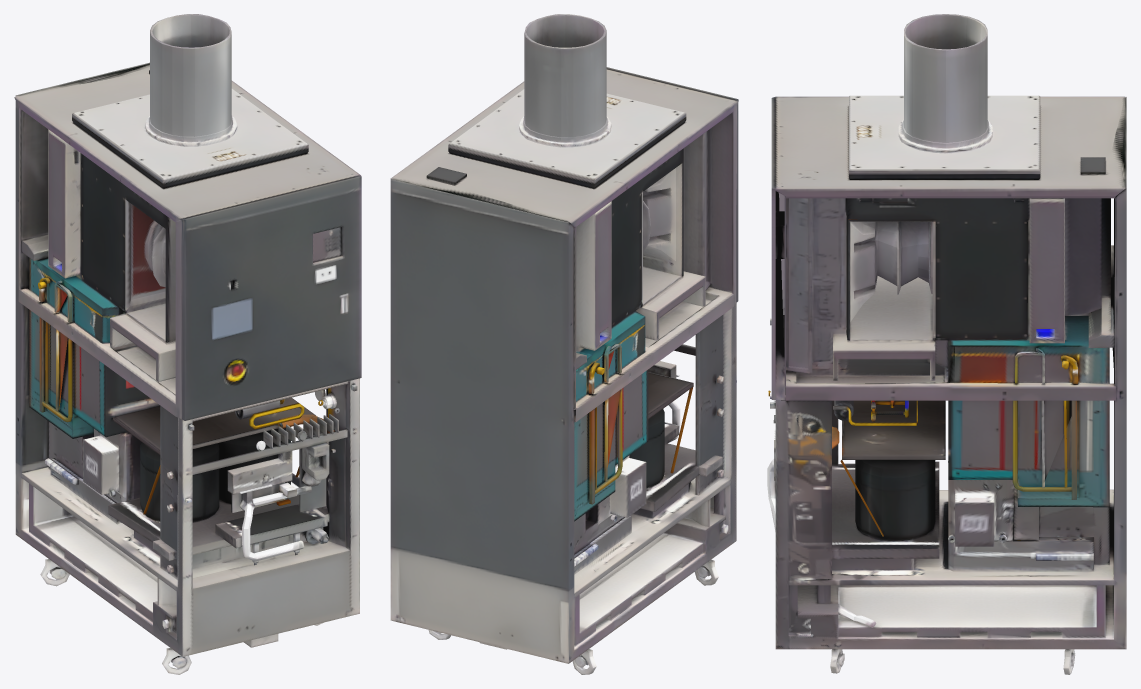
The model's file is new-shaded.glb.
The picture shows the model from 3 angles, left to right: view 1: azimuth 30°, elevation 25°; view 2: azimuth 150°, elevation 25°; view 3: azimuth 270°, elevation 25°; orthographic projection. The views are drawn at different scales.
Visible parts, largest first — view 1: model; view 2: model; view 3: model.
Part boxes in pixels (bbox=[...]): model: bbox=[14, 14, 361, 674]; model: bbox=[390, 14, 738, 674]; model: bbox=[767, 14, 1126, 674].
Size of the model in its own units: 0.6394 by 1.9 by 1.02.
1 material, 1 textured.
